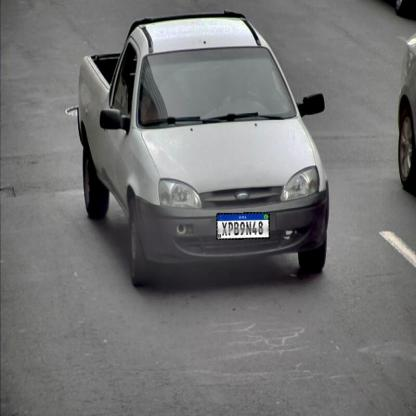PlacaM: (216, 212, 270, 240)
